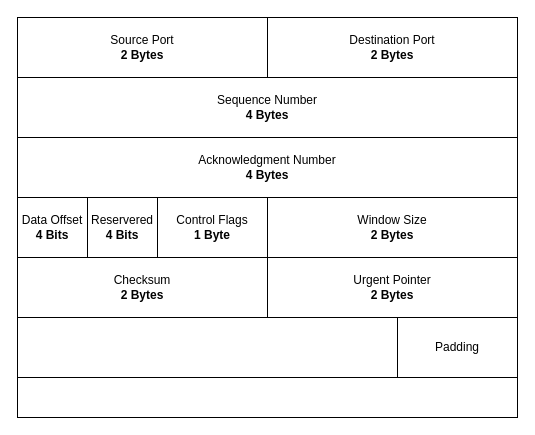
This 535x435 diagram has some shape labels left out. The shapes that lost their labels are listed below. From the top down, each one's centre as x and y in pixels, then its label:
At [207,347]: "Option 0-320 Bits".
At [267,397]: "Data".
